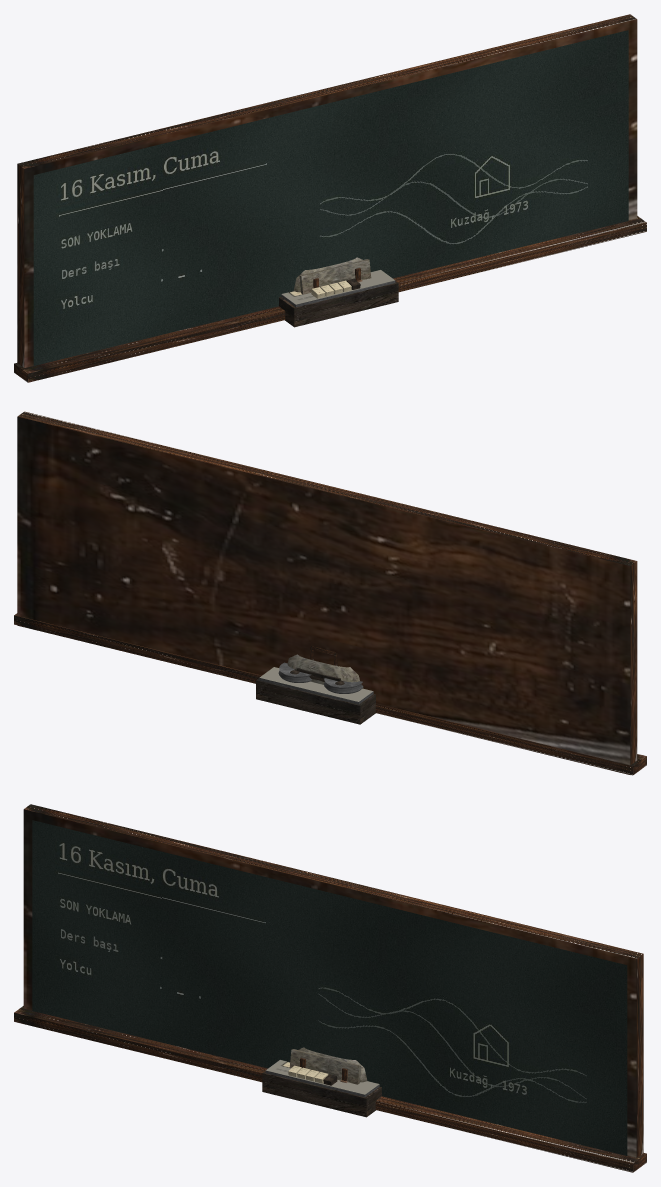
File: gece-esyasi.glb
3 views of the same model, one above another, from view 1: azimuth 30°, elevation 25°; view 2: azimuth 150°, elevation 25°; view 3: azimuth 330°, elevation 25° (orthographic).
Parts seen in each view (by area): view 1: tahta, makara, heybe; view 2: tahta, makara, heybe; view 3: tahta, makara, heybe.
Boxes of the visible parts, x1,y1,x2,y2 form: tahta: (14, 14, 646, 382); makara: (279, 270, 398, 327); heybe: (293, 257, 371, 294); tahta: (14, 411, 646, 775); makara: (256, 662, 375, 724); heybe: (287, 646, 359, 684); tahta: (14, 804, 646, 1172); makara: (262, 1060, 381, 1117); heybe: (289, 1047, 367, 1084).
Bounding box in the file's own units: 4.09 × 1.35 × 0.44.
5 materials, 5 textured.
